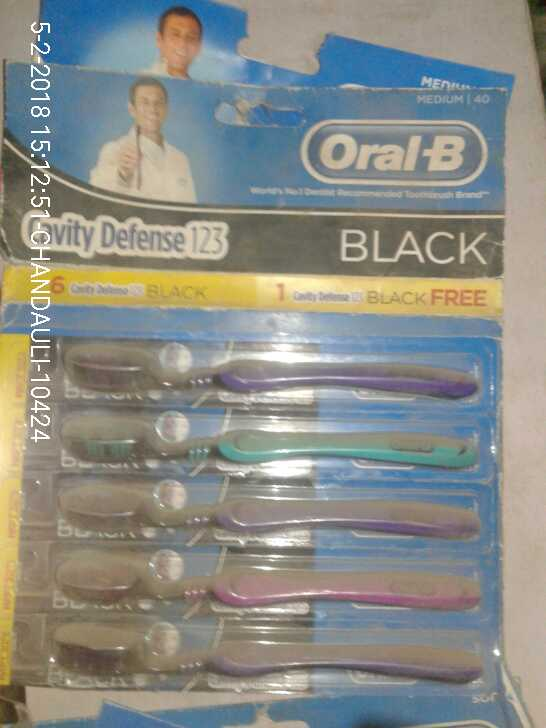oralb: (46, 613, 492, 696), (63, 327, 490, 409), (56, 473, 490, 549), (53, 542, 486, 616), (60, 409, 486, 483)
